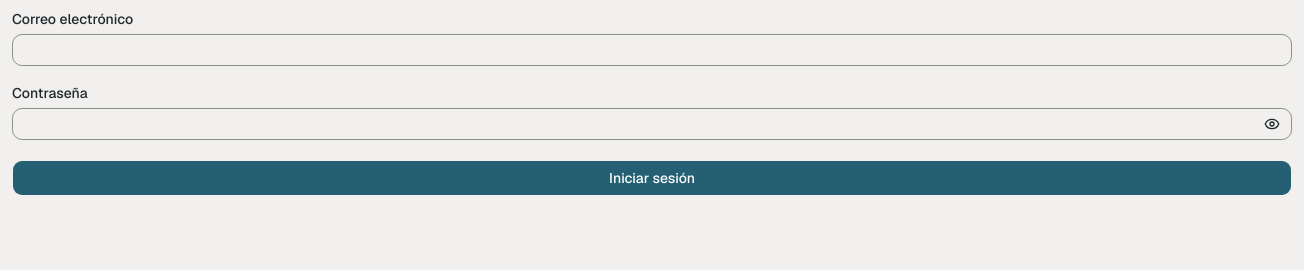
LoginForm › muestra el mensaje exacto cuando el backend no está disponible
This screenshot has width=1304, height=270.
Step 1. Type "ana@example.com" into the field labelled "Correo electrónico" → (652, 50), box [12,34,1292,66]
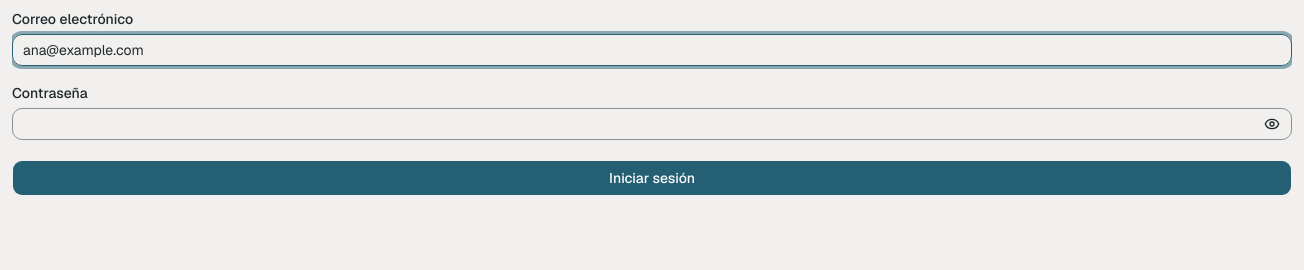
Step 2. Type "secreto" into the password field labelled "Contraseña" → (652, 124), box [12,108,1292,140]
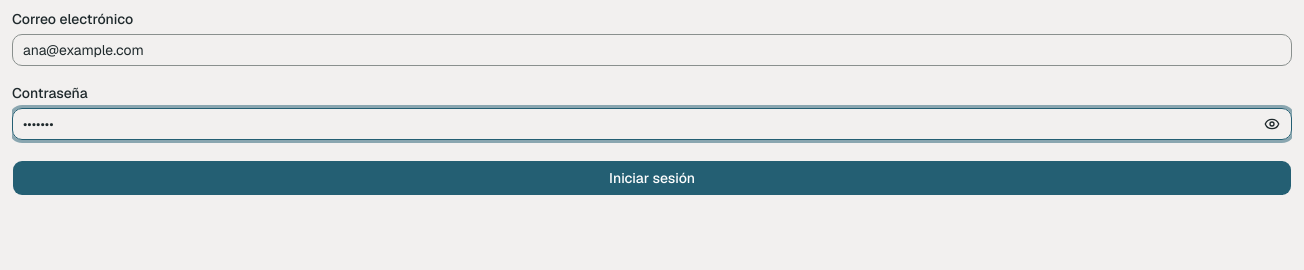
Step 3. Click the button "Iniciar sesión" → (652, 178), box [12,160,1292,196]
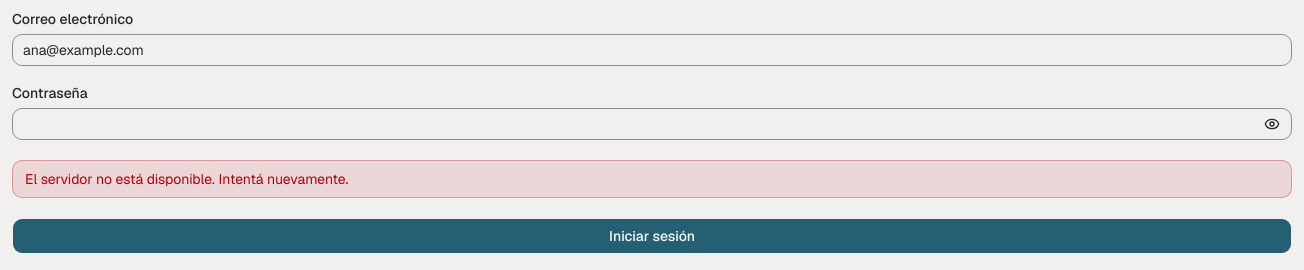
Now the message reads "El servidor no está disponible. Intentá nuevamente.", box [25,170,348,188]
